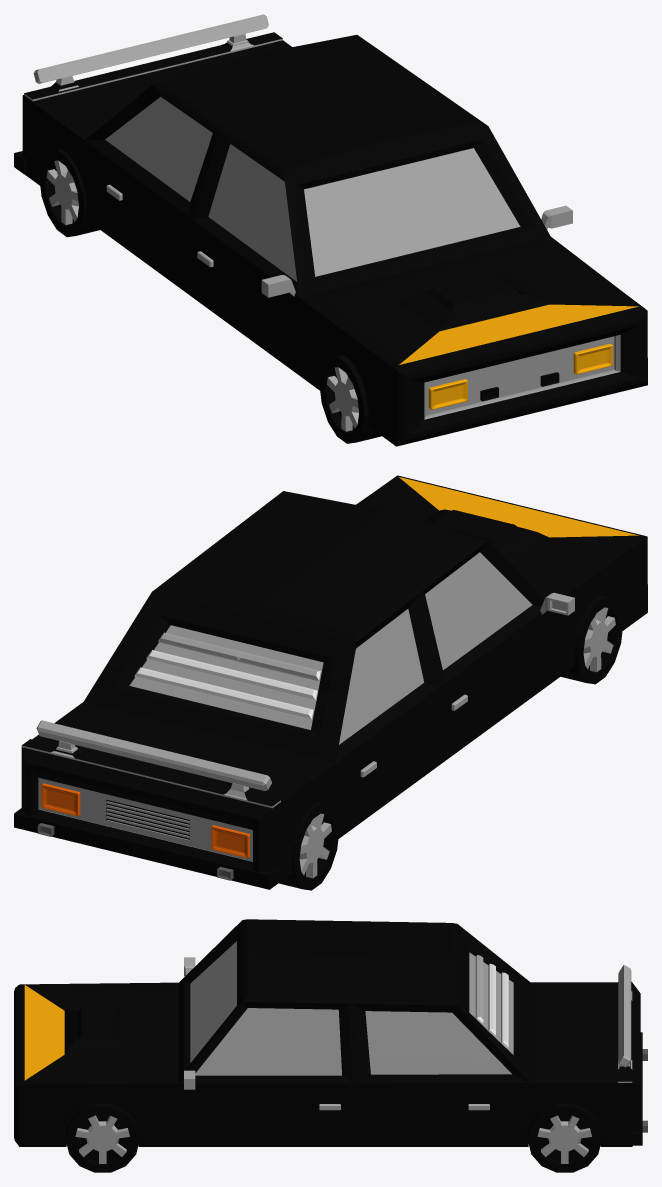
File: BR WHEEL.001_BODY.018.glb
The picture shows the model from 3 angles, top to bottom: view 1: azimuth 30°, elevation 25°; view 2: azimuth 150°, elevation 25°; view 3: azimuth 270°, elevation 25°; orthographic projection. The views are drawn at different scales.
Visible parts, largest first — view 1: BR WHEEL.001_BODY.018_0; view 2: BR WHEEL.001_BODY.018_0; view 3: BR WHEEL.001_BODY.018_0.
Boxes of the visible parts, box(x1,y1,x2,y2) form: BR WHEEL.001_BODY.018_0: box(14, 14, 647, 446); BR WHEEL.001_BODY.018_0: box(14, 475, 647, 890); BR WHEEL.001_BODY.018_0: box(14, 919, 647, 1172).
Size of the model in its own units: 0.3593 by 0.2293 by 0.79.
1 material, 1 textured.
